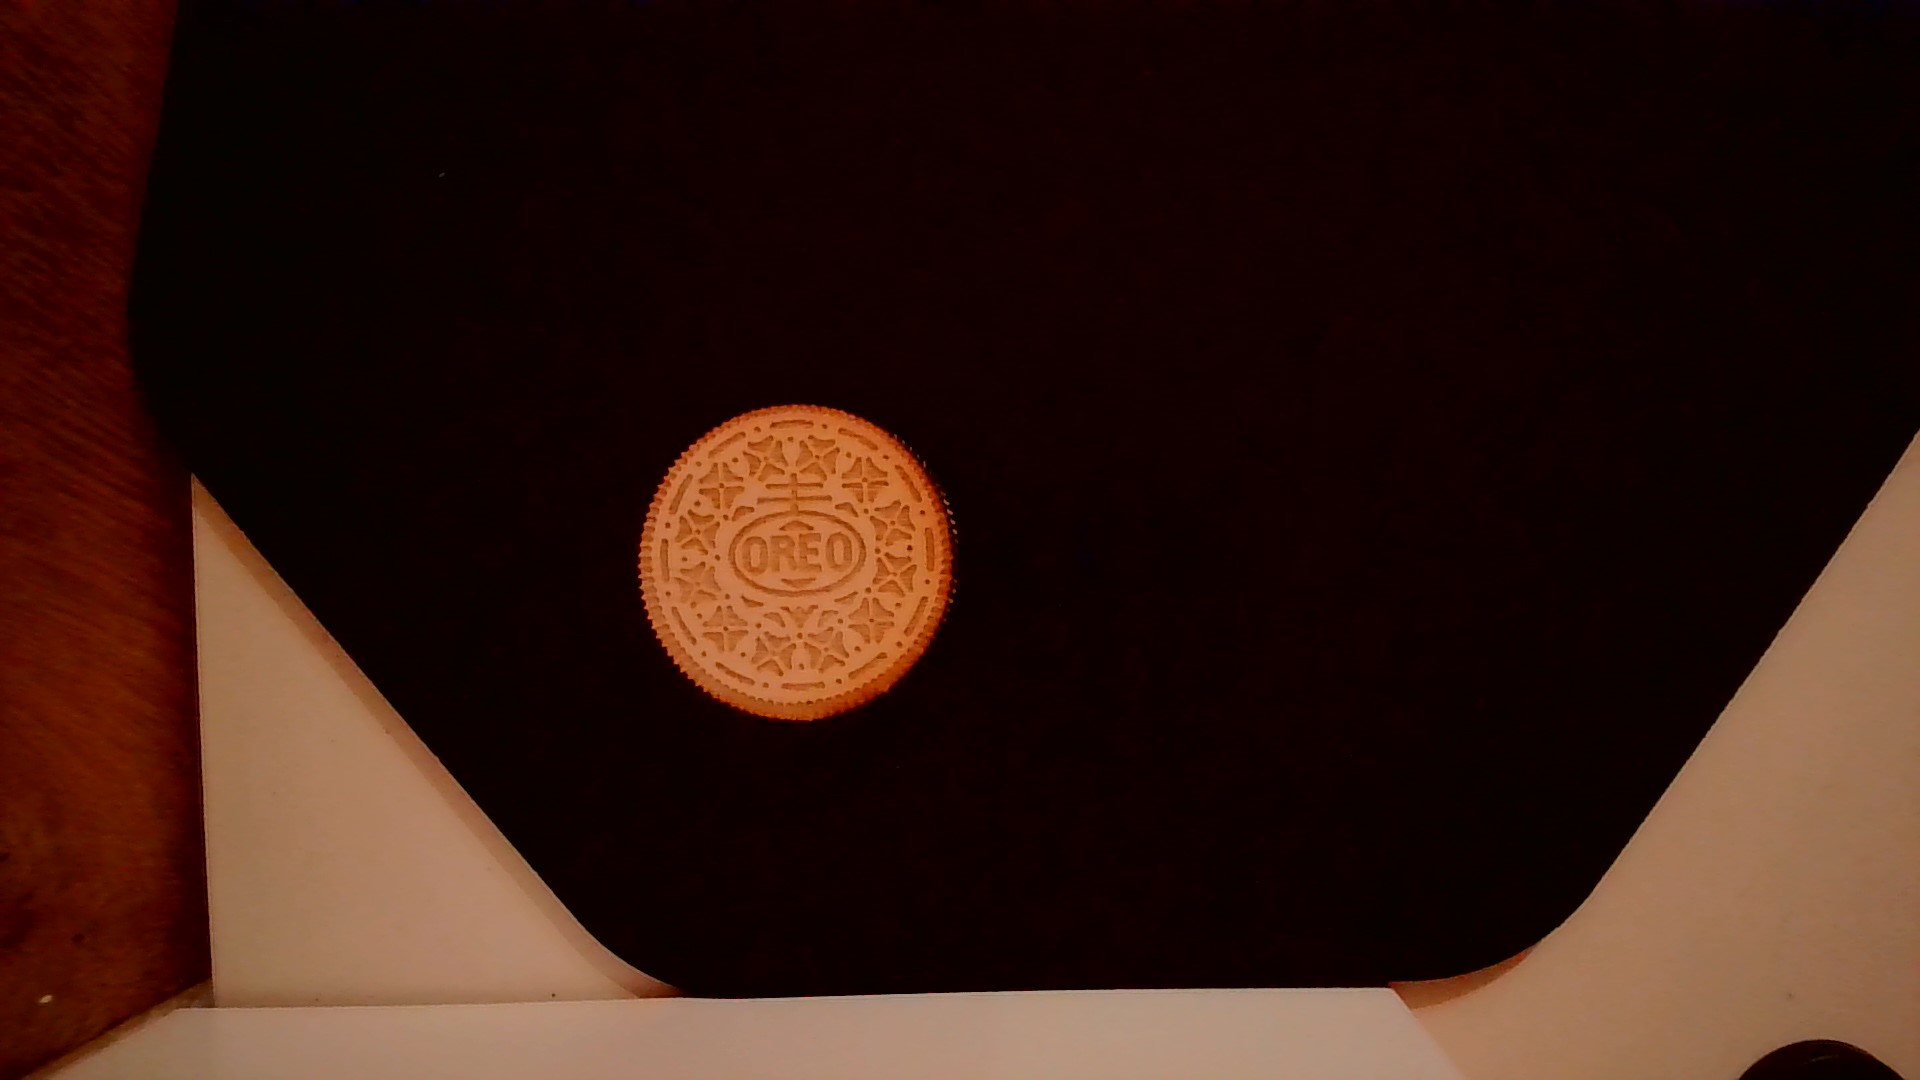Oréo: (630, 400, 968, 731)
